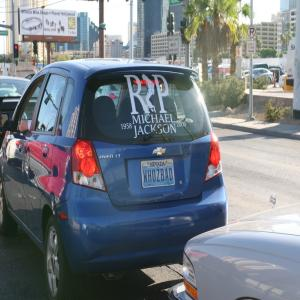Vehicle-registration-plate: (144, 164, 172, 199)
